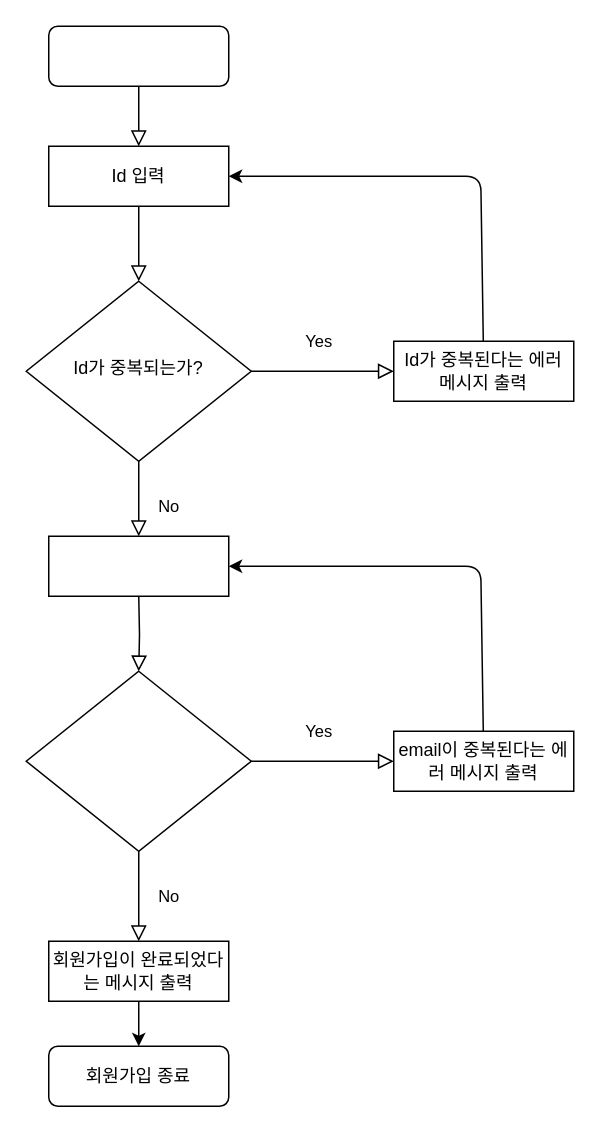
This 600x1133 diagram has some shape labels left out. Each missing label, with the centre of its shape:
"email 입력" belongs at point (138, 565).
"email이 중복되는가?" belongs at point (138, 760).
"회원가입 시작" belongs at point (138, 55).
